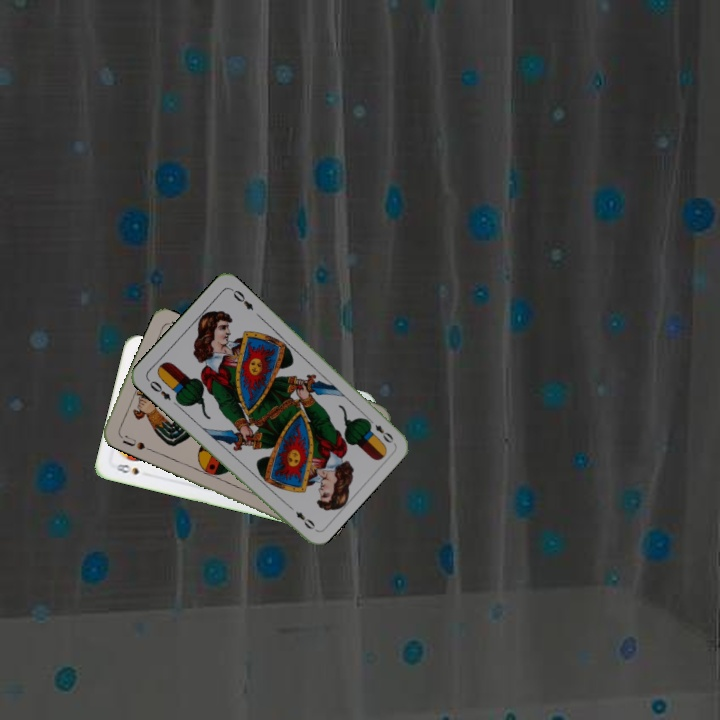EO: (363, 414, 396, 446), (146, 377, 174, 403)
S8: (109, 460, 141, 477)
SU: (115, 430, 148, 452)
